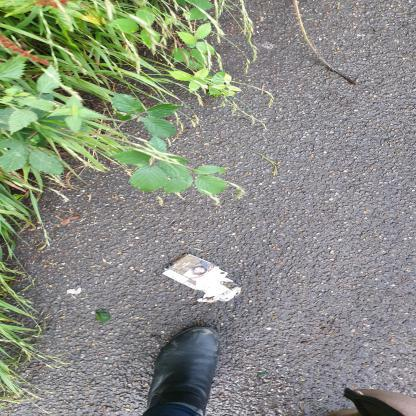karton: (163, 255, 242, 303)
